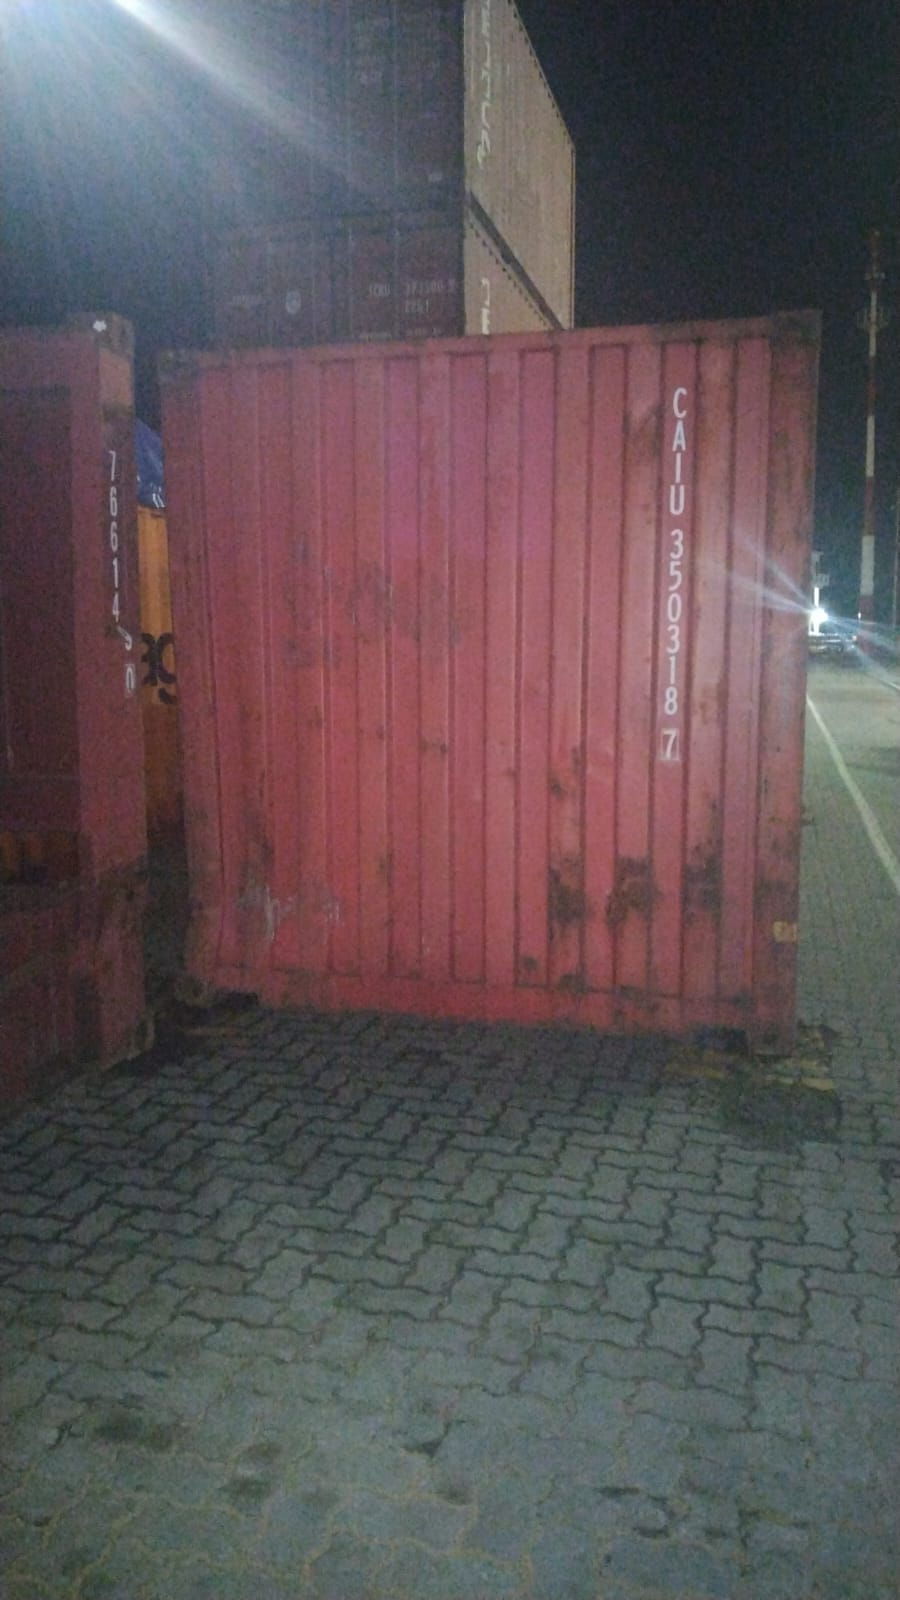minor: (537, 788, 786, 999)
moderate: (164, 657, 310, 974)
